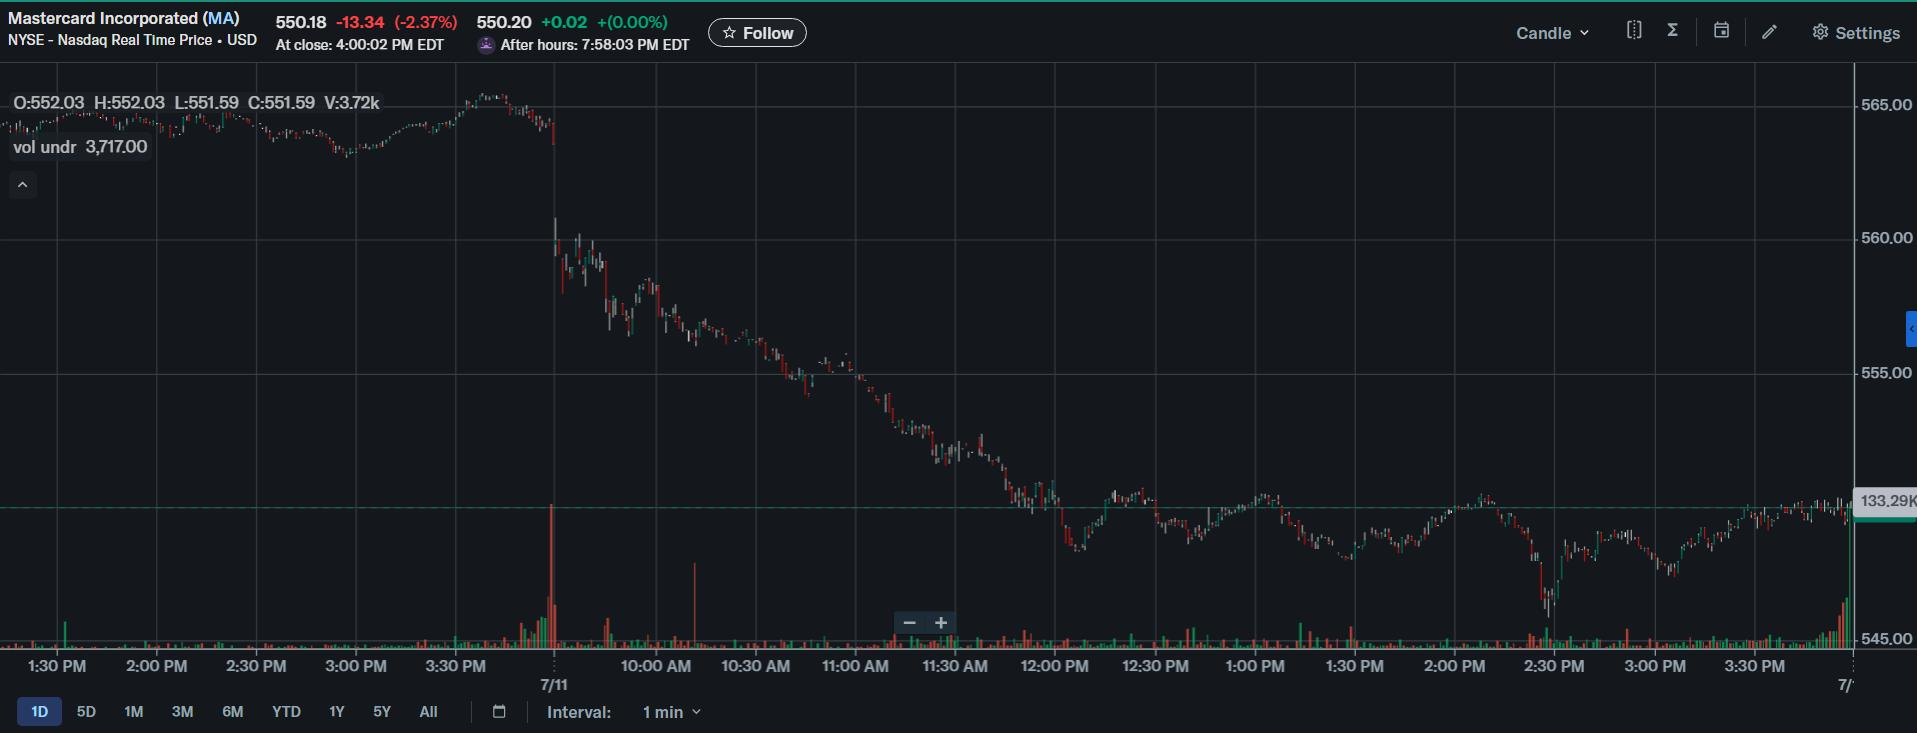Downtrend: (637, 266, 1084, 566), (1619, 522, 1676, 584)
Sideways: (1089, 486, 1547, 569)
